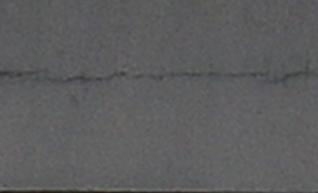fissura: (0, 53, 317, 100)
